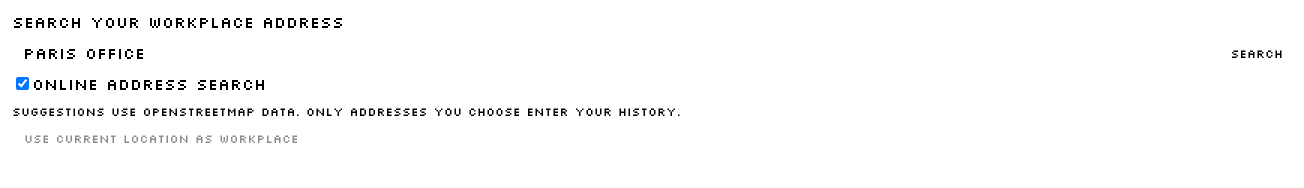
ignores stale searches and preserves history on provider failure
Type "Old address" into the dropdown at (614, 53), box top-left (12, 32), bottom-right (1216, 74)
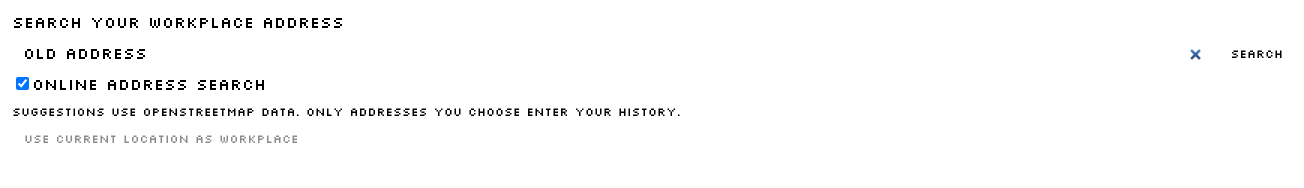
Click the button "Search" at (1257, 53), box top-left (1222, 32), bottom-right (1292, 74)
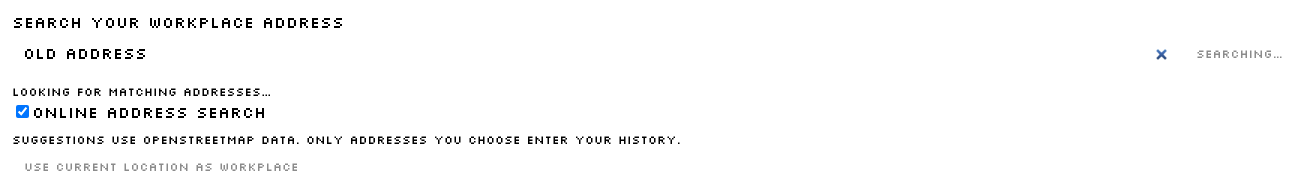
Replace the text in the dropdown with "Paris" at (596, 53), box top-left (12, 32), bottom-right (1181, 74)
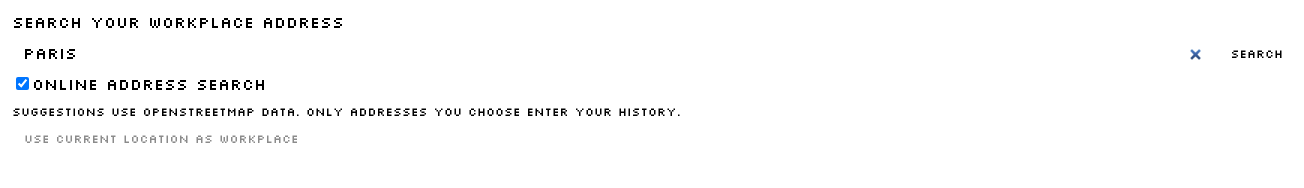
Click the button "Search" at (1257, 53), box top-left (1222, 32), bottom-right (1292, 74)
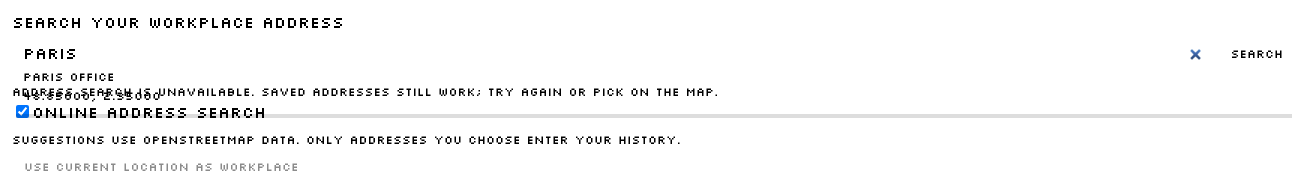
Expected: the text "Address search is unavailable" is shown, top-left (12, 84), bottom-right (718, 99)
Expected: the option shows "Paris office", top-left (12, 58), bottom-right (1292, 114)
